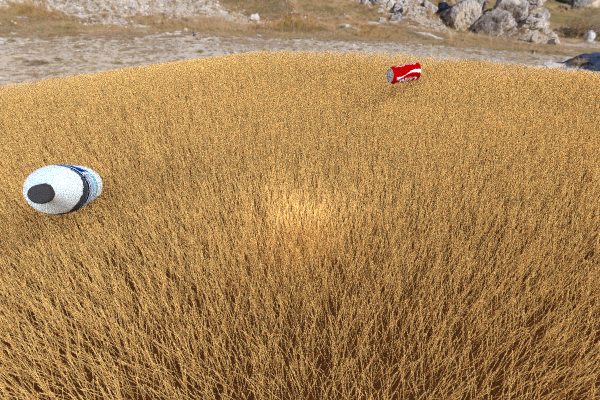bottle: (22, 164, 102, 214)
can: (215, 94, 250, 139), (386, 62, 421, 83)
